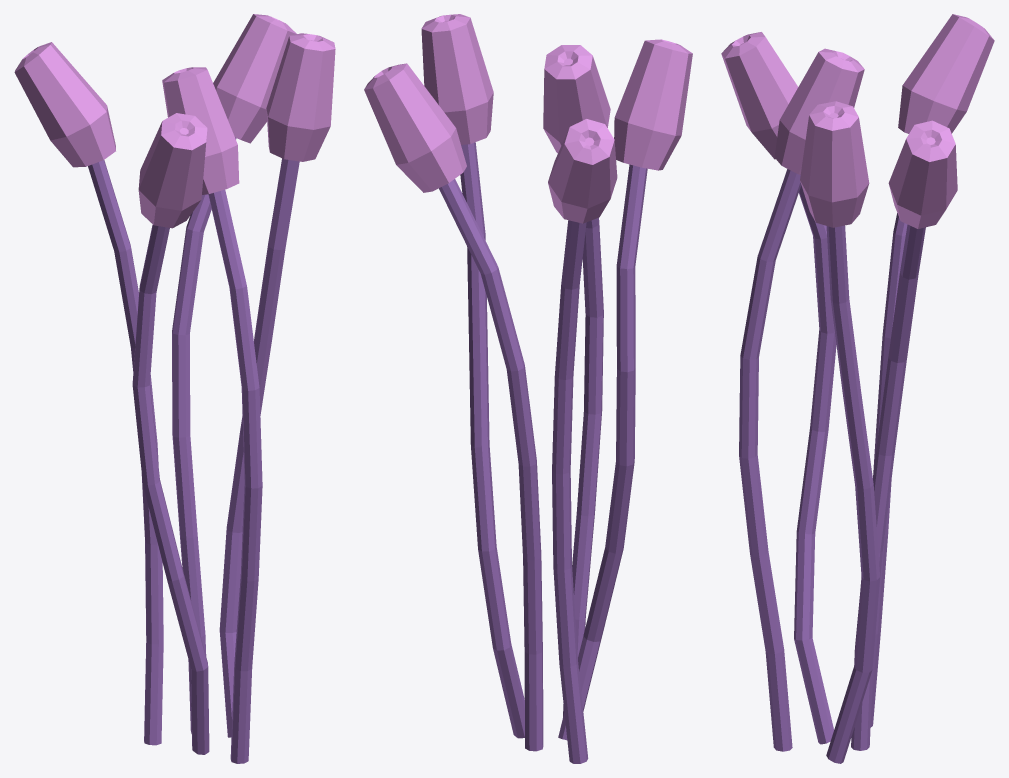
Rendered from Gras_01_Var_01.fbx.
3 renders of one model, left to right at view 1: azimuth 30°, elevation 25°; view 2: azimuth 150°, elevation 25°; view 3: azimuth 270°, elevation 25°, orthographic. The views are drawn at different scales.
Visible parts, largest first — view 1: Gras_01_Var_01; view 2: Gras_01_Var_01; view 3: Gras_01_Var_01.
Boxes of the visible parts, x1,y1,x2,y2 form: Gras_01_Var_01: [14, 14, 335, 763]; Gras_01_Var_01: [364, 14, 692, 763]; Gras_01_Var_01: [721, 14, 994, 763].
Bounding box in the file's own units: 0.1251 × 0.3479 × 0.1373.
